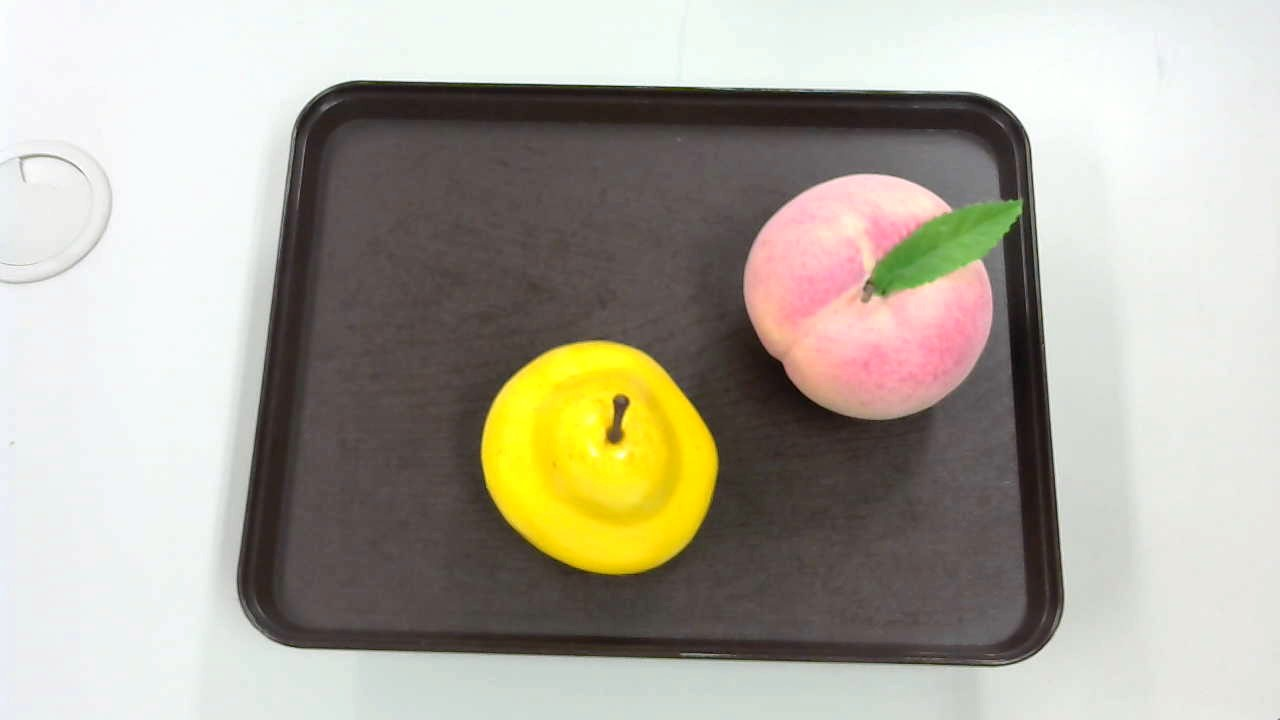peach: (737, 165, 1031, 418)
yellow pear: (470, 332, 733, 577)
